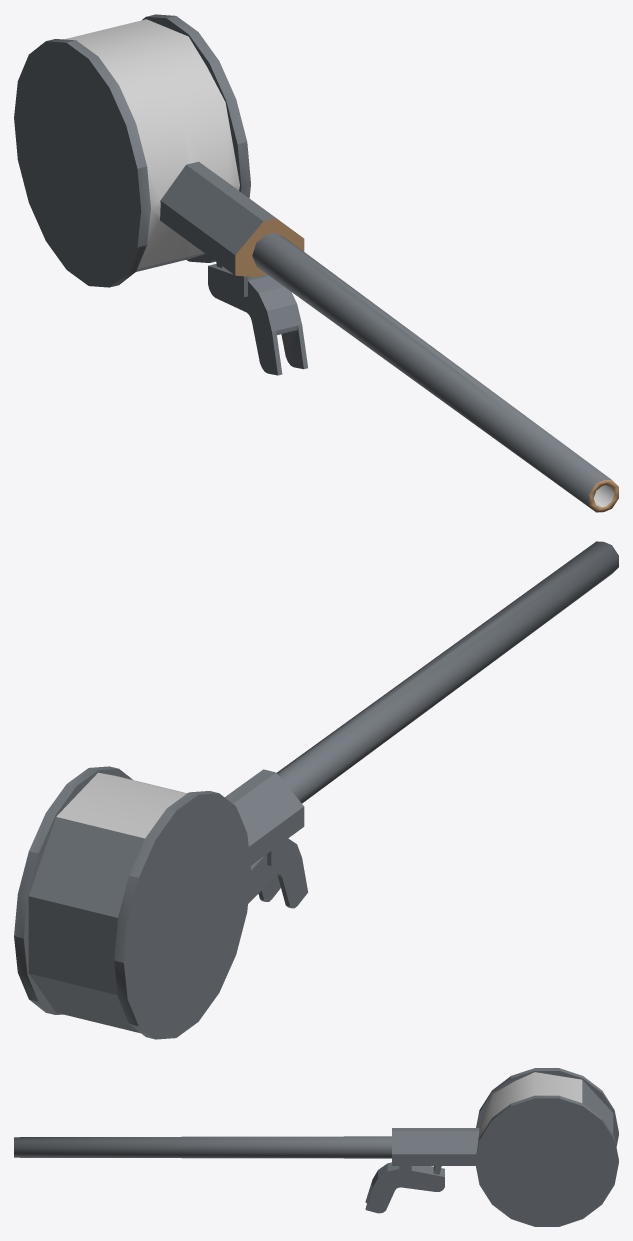
Rendered from Barrel.obj.
3 views of the same model, one above another, from view 1: azimuth 30°, elevation 25°; view 2: azimuth 150°, elevation 25°; view 3: azimuth 270°, elevation 25° (orthographic). The views are drawn at different scales.
Parts seen in each view (by area): view 1: Barrel_details_4, Barrel_details_2, Barrel_details_3; view 2: Barrel_details_4, Barrel_details_2; view 3: Barrel_details_4, Barrel_details_2.
Part boxes in pixels (x1,y1,x2,y2): Barrel_details_4: [14, 14, 611, 511]; Barrel_details_2: [64, 19, 614, 507]; Barrel_details_3: [235, 218, 618, 512]; Barrel_details_4: [14, 541, 618, 1039]; Barrel_details_2: [56, 772, 186, 838]; Barrel_details_4: [14, 1068, 618, 1226]; Barrel_details_2: [477, 1072, 582, 1147].
Size of the model in its own units: 0.7626 by 1.51 by 6.43.
